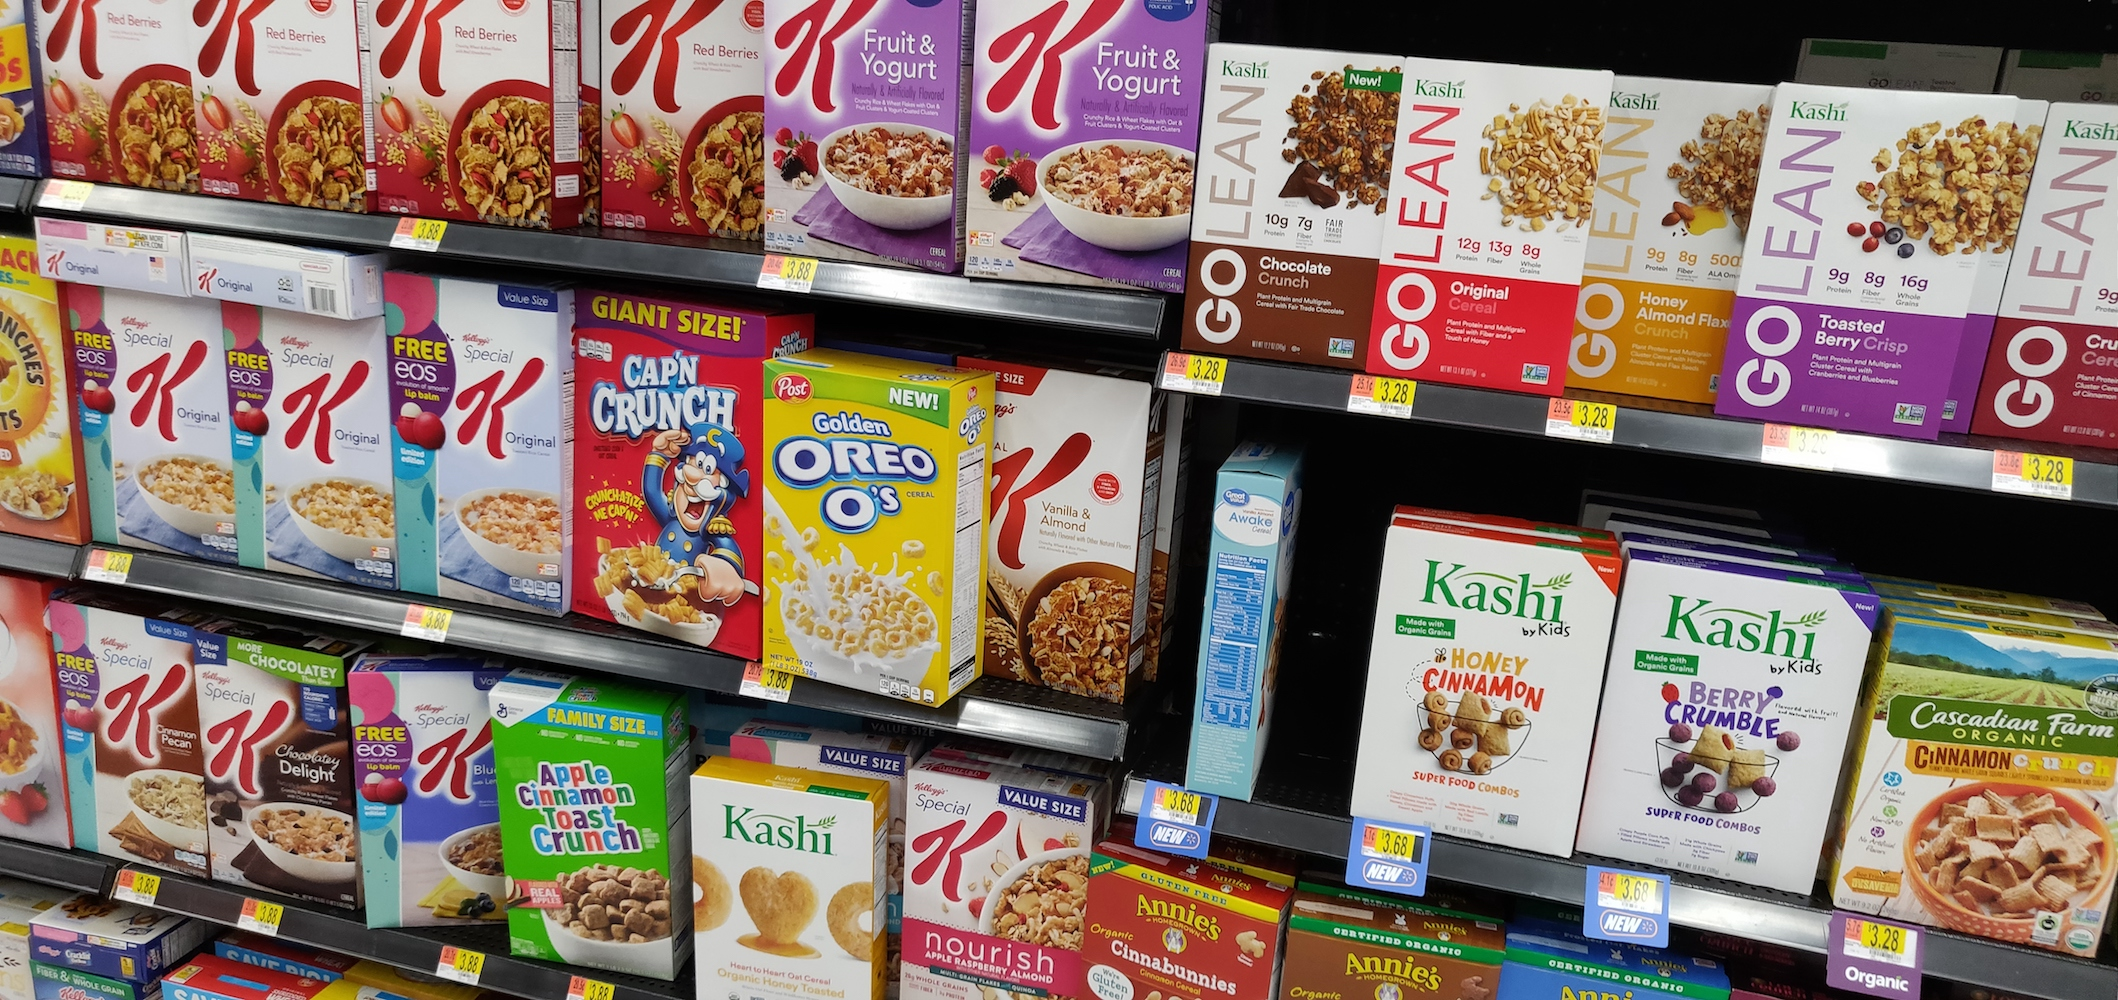Oreo Golden-568301011: (758, 364, 986, 704)
